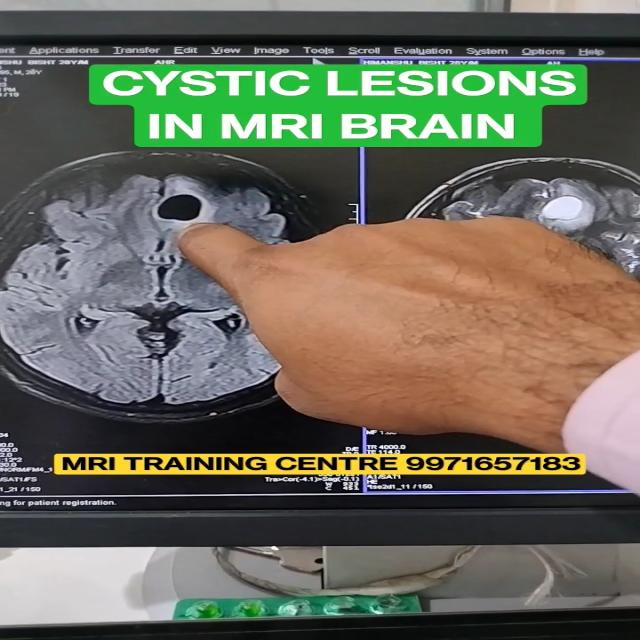tumor: (143, 174, 240, 243)
